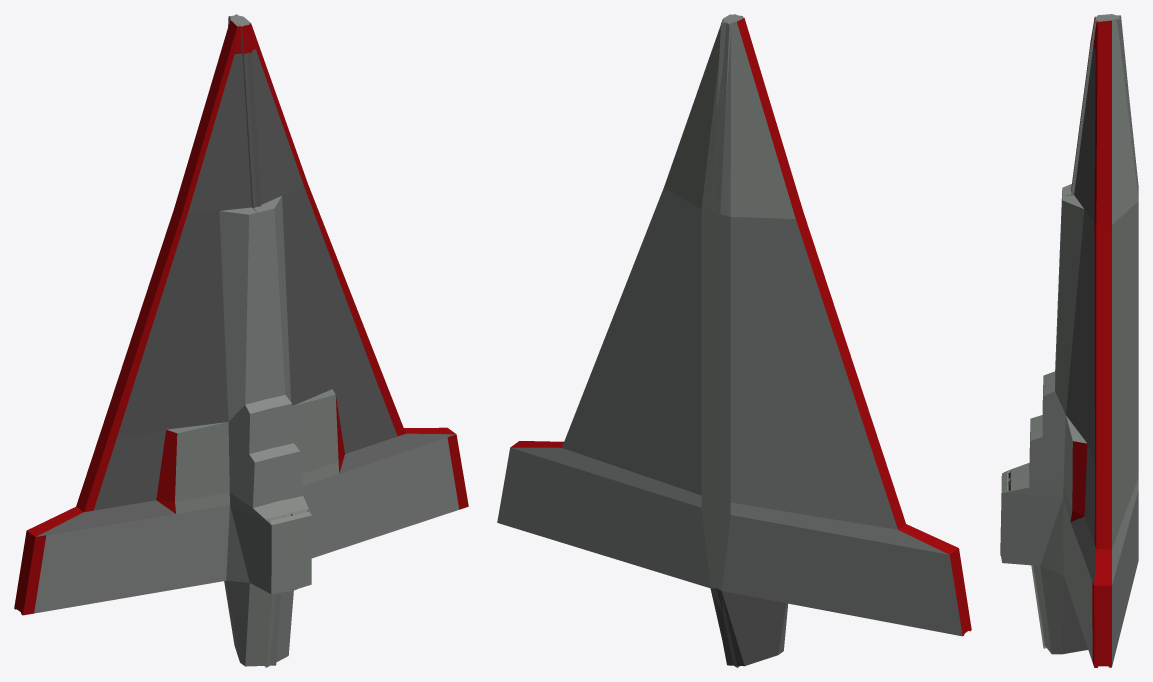
The model's file is capital_ship.fbx.
3 views of the same model, side by side, from view 1: azimuth 30°, elevation 25°; view 2: azimuth 150°, elevation 25°; view 3: azimuth 270°, elevation 25° (orthographic). The views are drawn at different scales.
Parts seen in each view (by area): view 1: Cube; view 2: Cube; view 3: Cube.
Part boxes in pixels (x1=…): Cube: x1=14, y1=14, x2=468, y2=667; Cube: x1=497, y1=14, x2=971, y2=667; Cube: x1=1000, y1=14, x2=1138, y2=667.
Bounding box in the file's own units: 911 × 1217 × 243.
